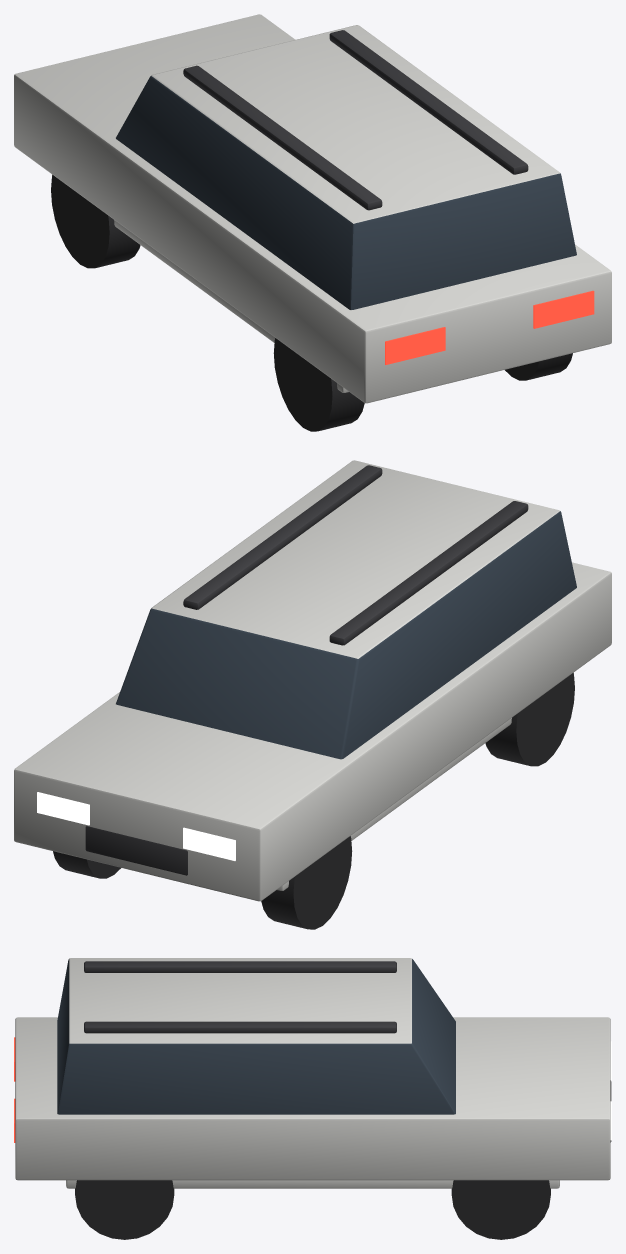
File: suv.glb
3 renders of one model, top to bottom at view 1: azimuth 30°, elevation 25°; view 2: azimuth 150°, elevation 25°; view 3: azimuth 270°, elevation 25°, orthographic. The views are drawn at different scales.
Visible parts, largest first — view 1: body, wheel_rl, wheel_fl, lights, wheel_rr; view 2: body, wheel_fl, wheel_rl, lights, wheel_fr; view 3: body, wheel_fr, wheel_rr.
Boxes of the visible parts, box(x1,y1,x2,y2) form: body: box(14, 14, 611, 403); wheel_rl: box(273, 338, 364, 431); wheel_fl: box(51, 175, 140, 268); lights: box(385, 290, 594, 364); wheel_rr: box(505, 353, 572, 380); body: box(14, 460, 611, 901); wheel_fl: box(261, 836, 352, 929); wheel_rl: box(485, 673, 574, 766); lights: box(37, 792, 235, 860); wheel_fr: box(53, 851, 120, 878); body: box(15, 958, 611, 1188); wheel_fr: box(451, 1180, 550, 1239); wheel_rr: box(75, 1180, 174, 1239).
Size of the model in its own units: 1.9 by 1.7 by 4.7.
